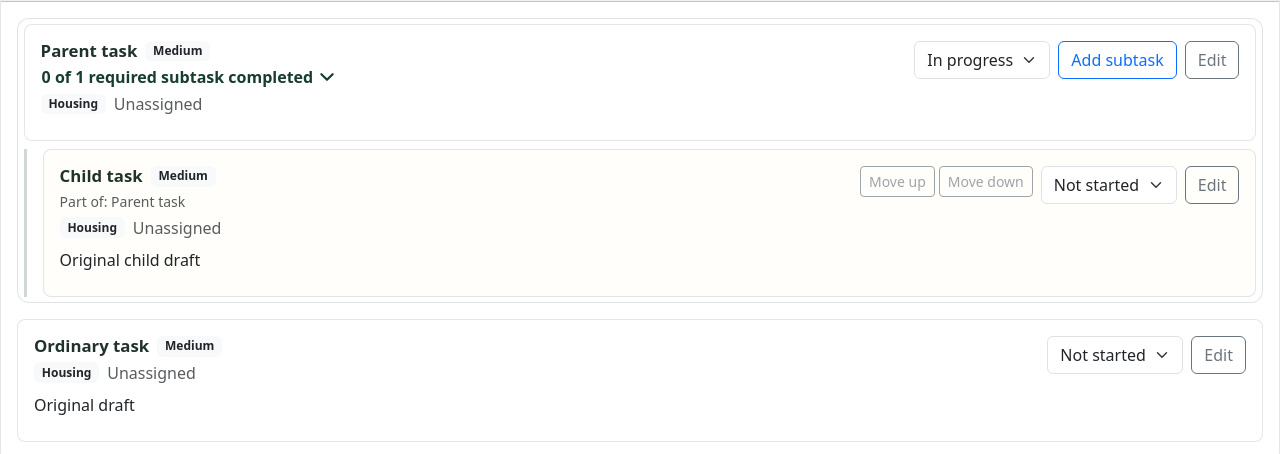
Test case: existing Task edit return › resolves phase and Completed movement and respects reduced motion
This screenshot has width=1280, height=454.
(page scrolled)
Click the button "Edit" in the row of "Ordinary task" at (1219, 355), box [1191,336,1246,374]
(page scrolled)
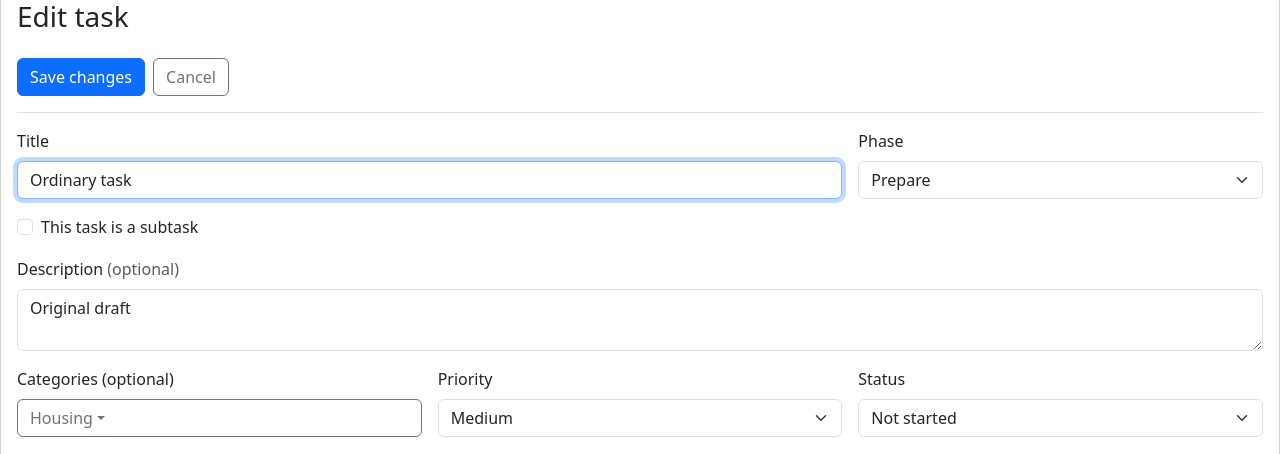
Click the button "Save changes" at (81, 77), box [17,58,145,96]
(page scrolled)
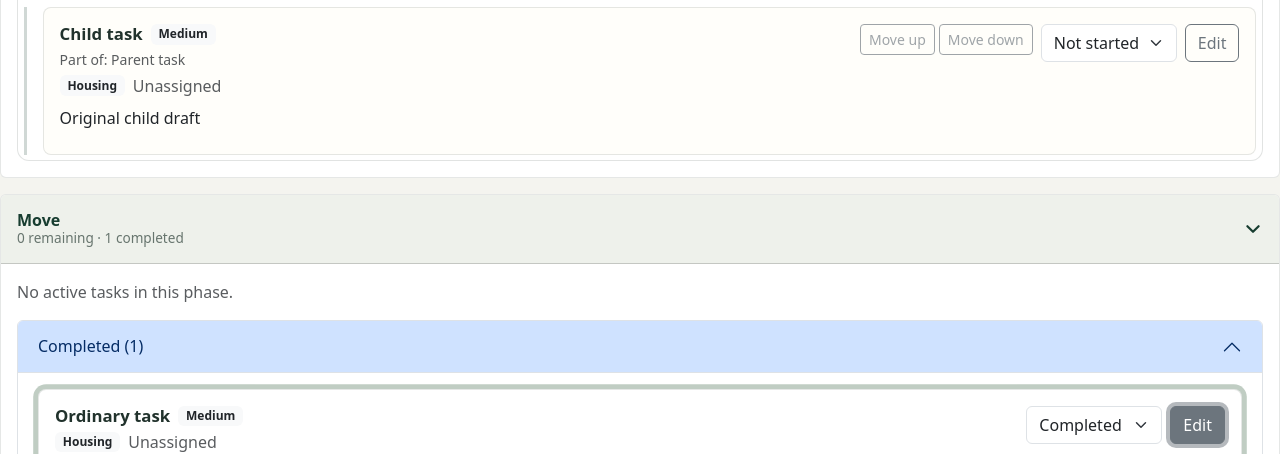
Expected: the button "Move 0 remaining · 1 completed" is expanded, [1,195,1279,263]
